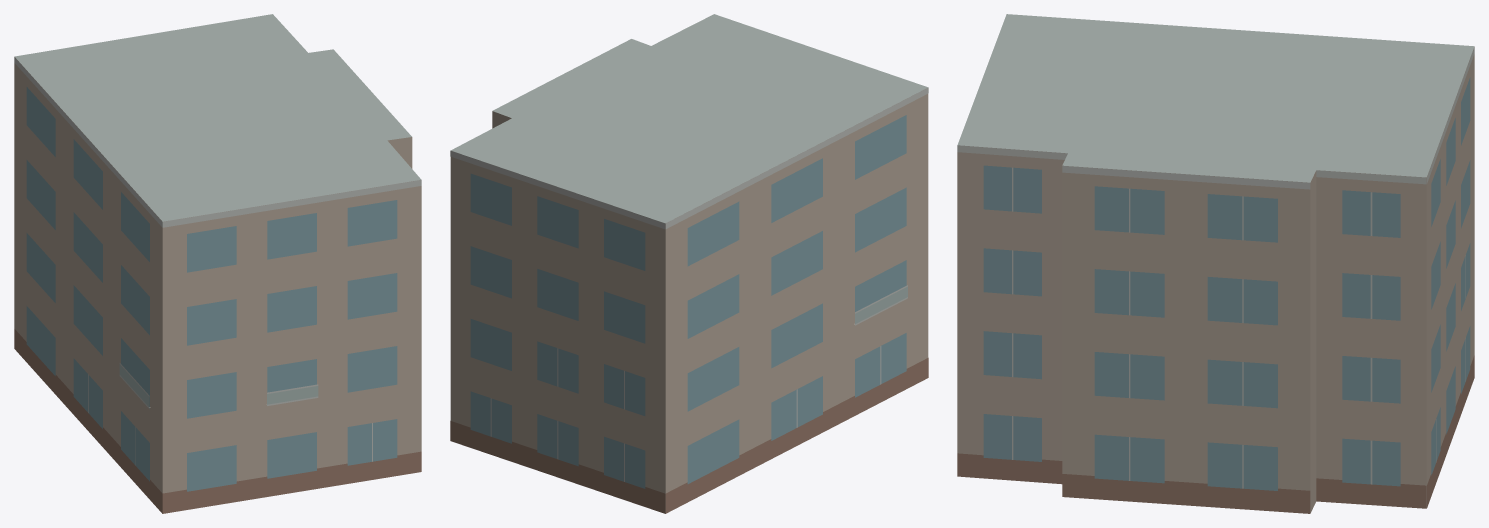
Rendered from survey-upis-32689698.glb.
3 renders of one model, left to right at view 1: azimuth 30°, elevation 25°; view 2: azimuth 150°, elevation 25°; view 3: azimuth 270°, elevation 25°, orthographic. The views are drawn at different scales.
Parts seen in each view (by area): view 1: survey-upis-32689698.tmp; view 2: survey-upis-32689698.tmp; view 3: survey-upis-32689698.tmp.
Part boxes in pixels (box(x1,y1,x2,y2)): survey-upis-32689698.tmp: box(14, 14, 421, 513); survey-upis-32689698.tmp: box(450, 14, 928, 513); survey-upis-32689698.tmp: box(957, 14, 1474, 513).
Bounding box in the file's own units: 12.79 × 11.7 × 16.57.
